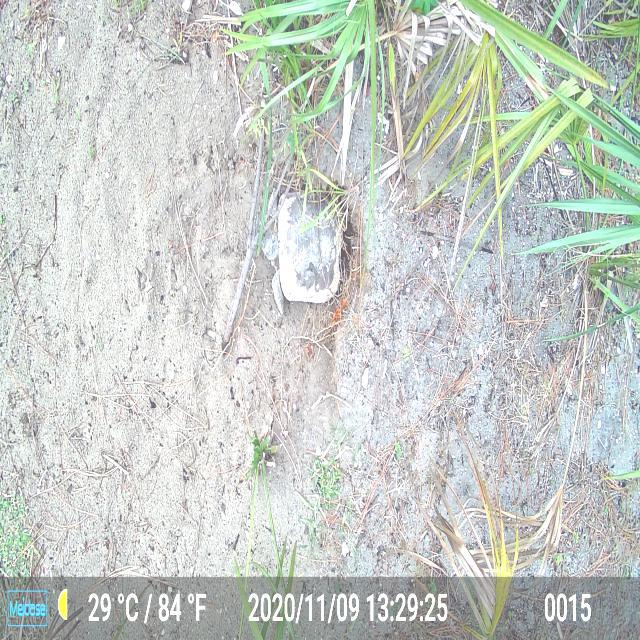tortoise: (259, 176, 346, 316)
